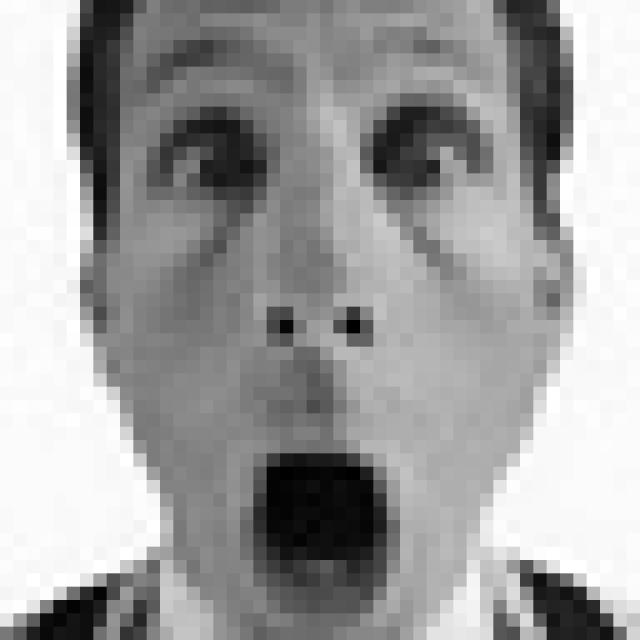surprise: (146, 40, 504, 626)
